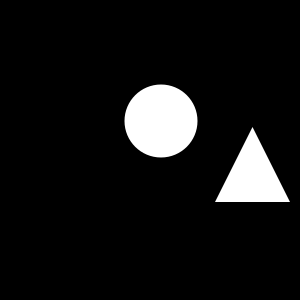rectangle: (124, 84, 198, 158)
triangle: (215, 127, 290, 202)
